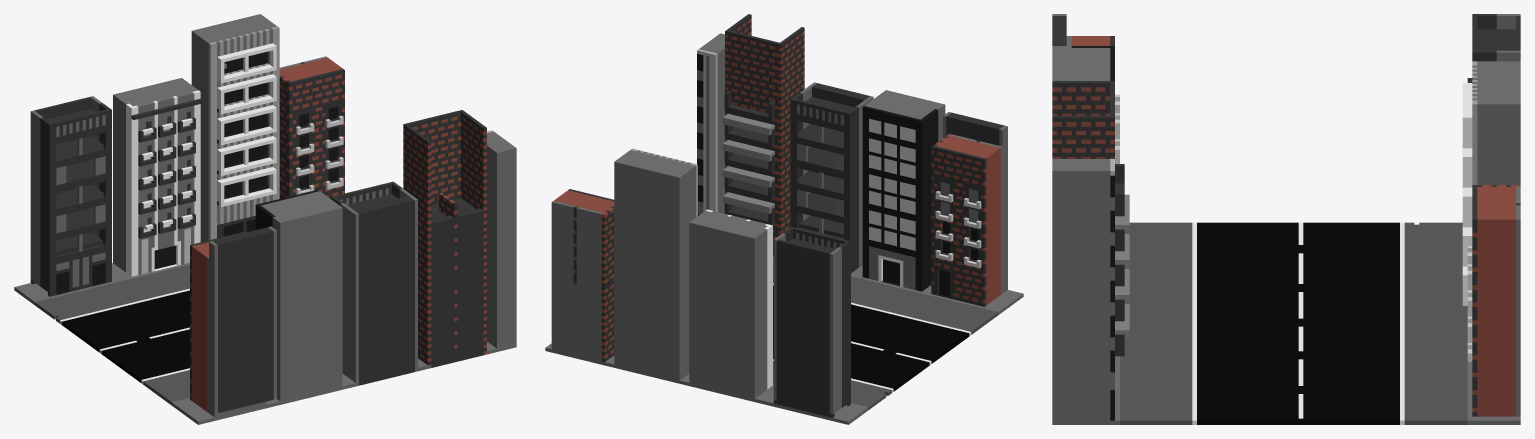
Rendered from strret 2.obj.
3 renders of one model, left to right at view 1: azimuth 30°, elevation 25°; view 2: azimuth 150°, elevation 25°; view 3: azimuth 270°, elevation 25°, orthographic. The views are drawn at different scales.
Bounding box in the file's own units: 9.7 × 6.6 × 9.7.
1 material, 1 textured.
